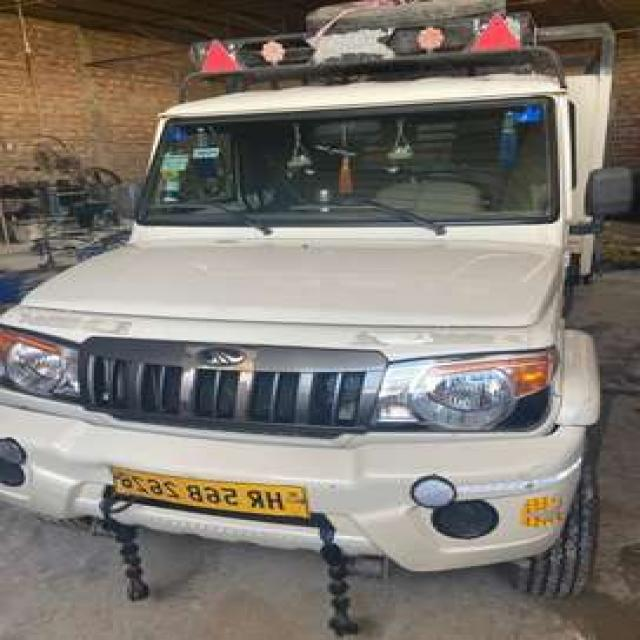license_plate: (104, 461, 314, 525)
